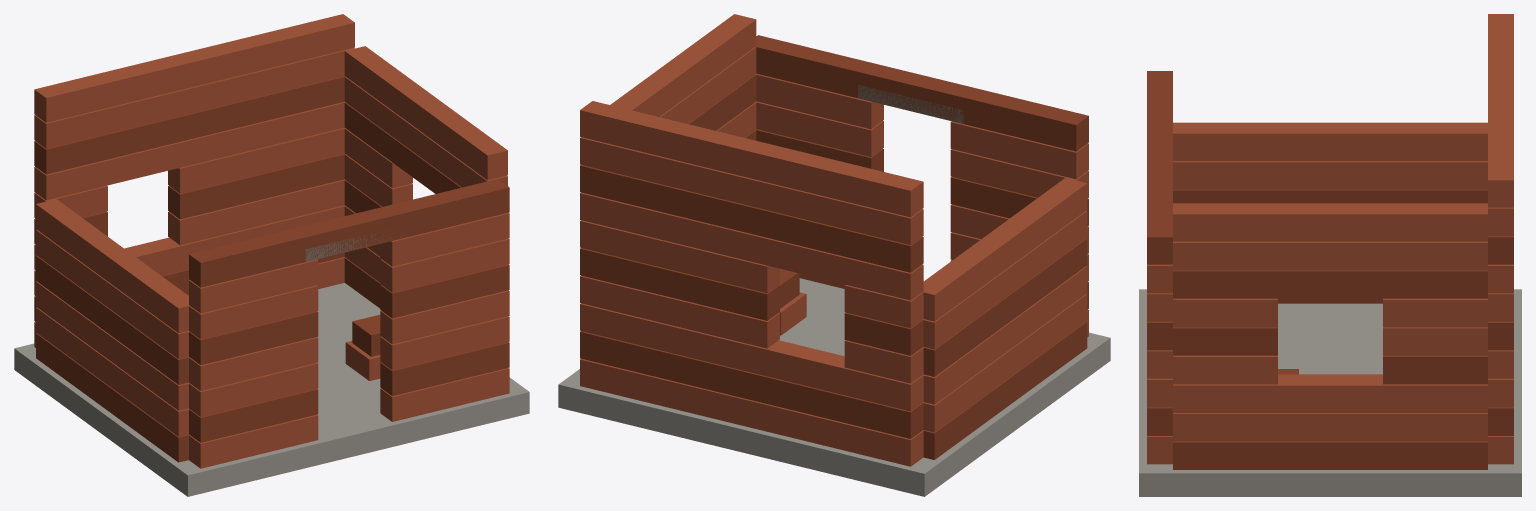
Rendered from v2-house-walls.glb.
3 views of the same model, side by side, from view 1: azimuth 30°, elevation 25°; view 2: azimuth 150°, elevation 25°; view 3: azimuth 270°, elevation 25° (orthographic). The views are drawn at different scales.
Parts seen in each view (by area): view 1: v2-house-walls; view 2: v2-house-walls; view 3: v2-house-walls.
Part boxes in pixels (<box>): v2-house-walls: <box>14,14,529,496</box>; v2-house-walls: <box>558,14,1110,496</box>; v2-house-walls: <box>1139,14,1521,496</box>.
Size of the model in its own units: 1.66 by 1.3 by 1.46.
